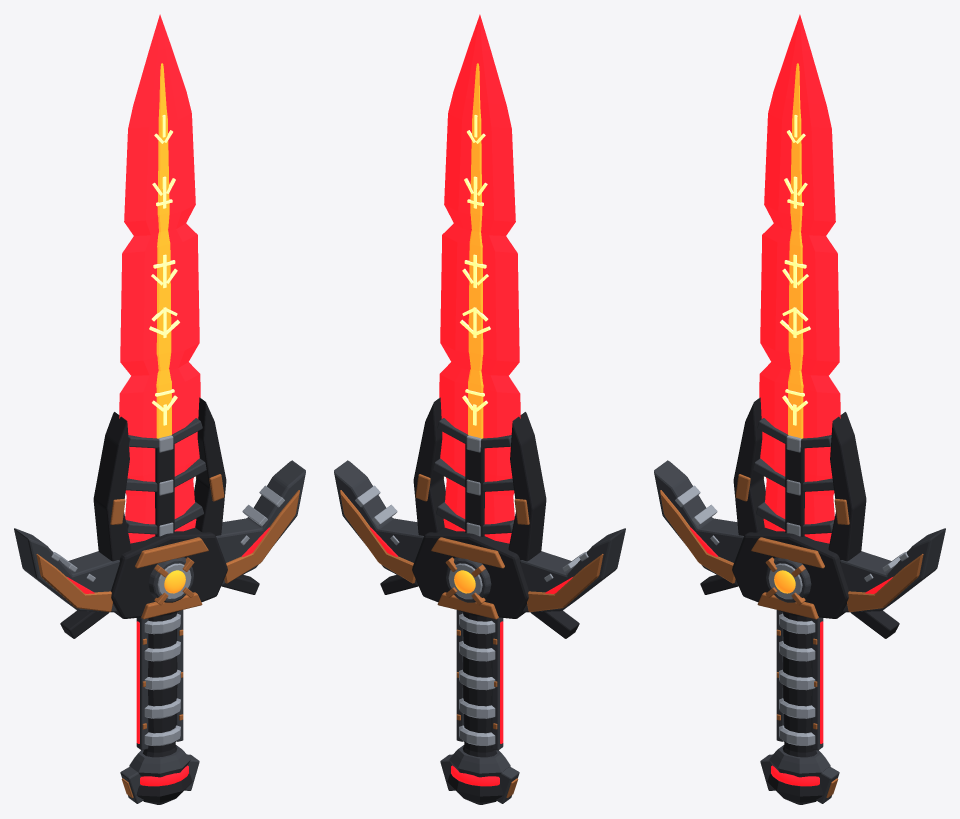
File: espada_corebreaker.glb
3 renders of one model, left to right at view 1: azimuth 30°, elevation 25°; view 2: azimuth 150°, elevation 25°; view 3: azimuth 330°, elevation 25°, orthographic.
Visible parts, largest first — view 1: Hoja_FiloPlasma, Guarda_BloqueCentral, Hoja_NucleoPlasma, Flanco_BaseHoja_Izq, Ala_Acero_Der, Ala_Acero_Izq, Flanco_BaseHoja_Der, Empunadura_Nucleo, Ala_Bronce_Der, Ala_Bronce_Izq, Espina_Emisor_Base, Pomo_Cuello (+7 smaller); view 2: Hoja_FiloPlasma, Guarda_BloqueCentral, Hoja_NucleoPlasma, Flanco_BaseHoja_Izq, Ala_Acero_Der, Ala_Acero_Izq, Flanco_BaseHoja_Der, Empunadura_Nucleo, Ala_Bronce_Der, Ala_Bronce_Izq, Espina_Emisor_Base, Pomo_Cuello (+7 smaller); view 3: Hoja_FiloPlasma, Guarda_BloqueCentral, Hoja_NucleoPlasma, Flanco_BaseHoja_Der, Ala_Acero_Izq, Ala_Acero_Der, Flanco_BaseHoja_Izq, Empunadura_Nucleo, Ala_Bronce_Izq, Ala_Bronce_Der, Espina_Emisor_Base, Pomo_Cuello (+7 smaller).
Boxes of the visible parts, bbox=[...] form: Hoja_FiloPlasma: bbox=[119, 14, 200, 543]; Guarda_BloqueCentral: bbox=[111, 527, 227, 618]; Hoja_NucleoPlasma: bbox=[156, 63, 171, 438]; Flanco_BaseHoja_Izq: bbox=[93, 412, 131, 561]; Ala_Acero_Der: bbox=[216, 460, 305, 585]; Ala_Acero_Izq: bbox=[14, 528, 119, 612]; Flanco_BaseHoja_Der: bbox=[194, 397, 226, 535]; Empunadura_Nucleo: bbox=[143, 612, 177, 757]; Ala_Bronce_Der: bbox=[224, 490, 299, 583]; Ala_Bronce_Izq: bbox=[36, 554, 112, 612]; Espina_Emisor_Base: bbox=[155, 443, 174, 536]; Pomo_Cuello: bbox=[129, 745, 190, 777]; Hoja_FiloPlasma: bbox=[439, 14, 520, 543]; Guarda_BloqueCentral: bbox=[412, 527, 528, 618]; Hoja_NucleoPlasma: bbox=[468, 63, 483, 438]; Flanco_BaseHoja_Izq: bbox=[508, 412, 546, 561]; Ala_Acero_Der: bbox=[334, 460, 423, 585]; Ala_Acero_Izq: bbox=[520, 528, 625, 612]; Flanco_BaseHoja_Der: bbox=[413, 397, 445, 535]; Empunadura_Nucleo: bbox=[462, 612, 496, 757]; Ala_Bronce_Der: bbox=[340, 490, 415, 583]; Ala_Bronce_Izq: bbox=[527, 554, 603, 612]; Espina_Emisor_Base: bbox=[465, 443, 484, 536]; Pomo_Cuello: bbox=[449, 745, 510, 777]; Hoja_FiloPlasma: bbox=[759, 14, 840, 543]; Guarda_BloqueCentral: bbox=[732, 527, 848, 618]; Hoja_NucleoPlasma: bbox=[788, 63, 803, 438]; Flanco_BaseHoja_Der: bbox=[828, 412, 866, 561]; Ala_Acero_Izq: bbox=[654, 460, 743, 585]; Ala_Acero_Der: bbox=[840, 528, 945, 612]; Flanco_BaseHoja_Izq: bbox=[733, 397, 765, 535]; Empunadura_Nucleo: bbox=[782, 612, 816, 757]; Ala_Bronce_Izq: bbox=[660, 490, 735, 583]; Ala_Bronce_Der: bbox=[847, 554, 923, 612]; Espina_Emisor_Base: bbox=[785, 443, 804, 536]; Pomo_Cuello: bbox=[769, 745, 830, 777].
Size of the model in its own units: 0.4267 by 1.16 by 0.0923.
